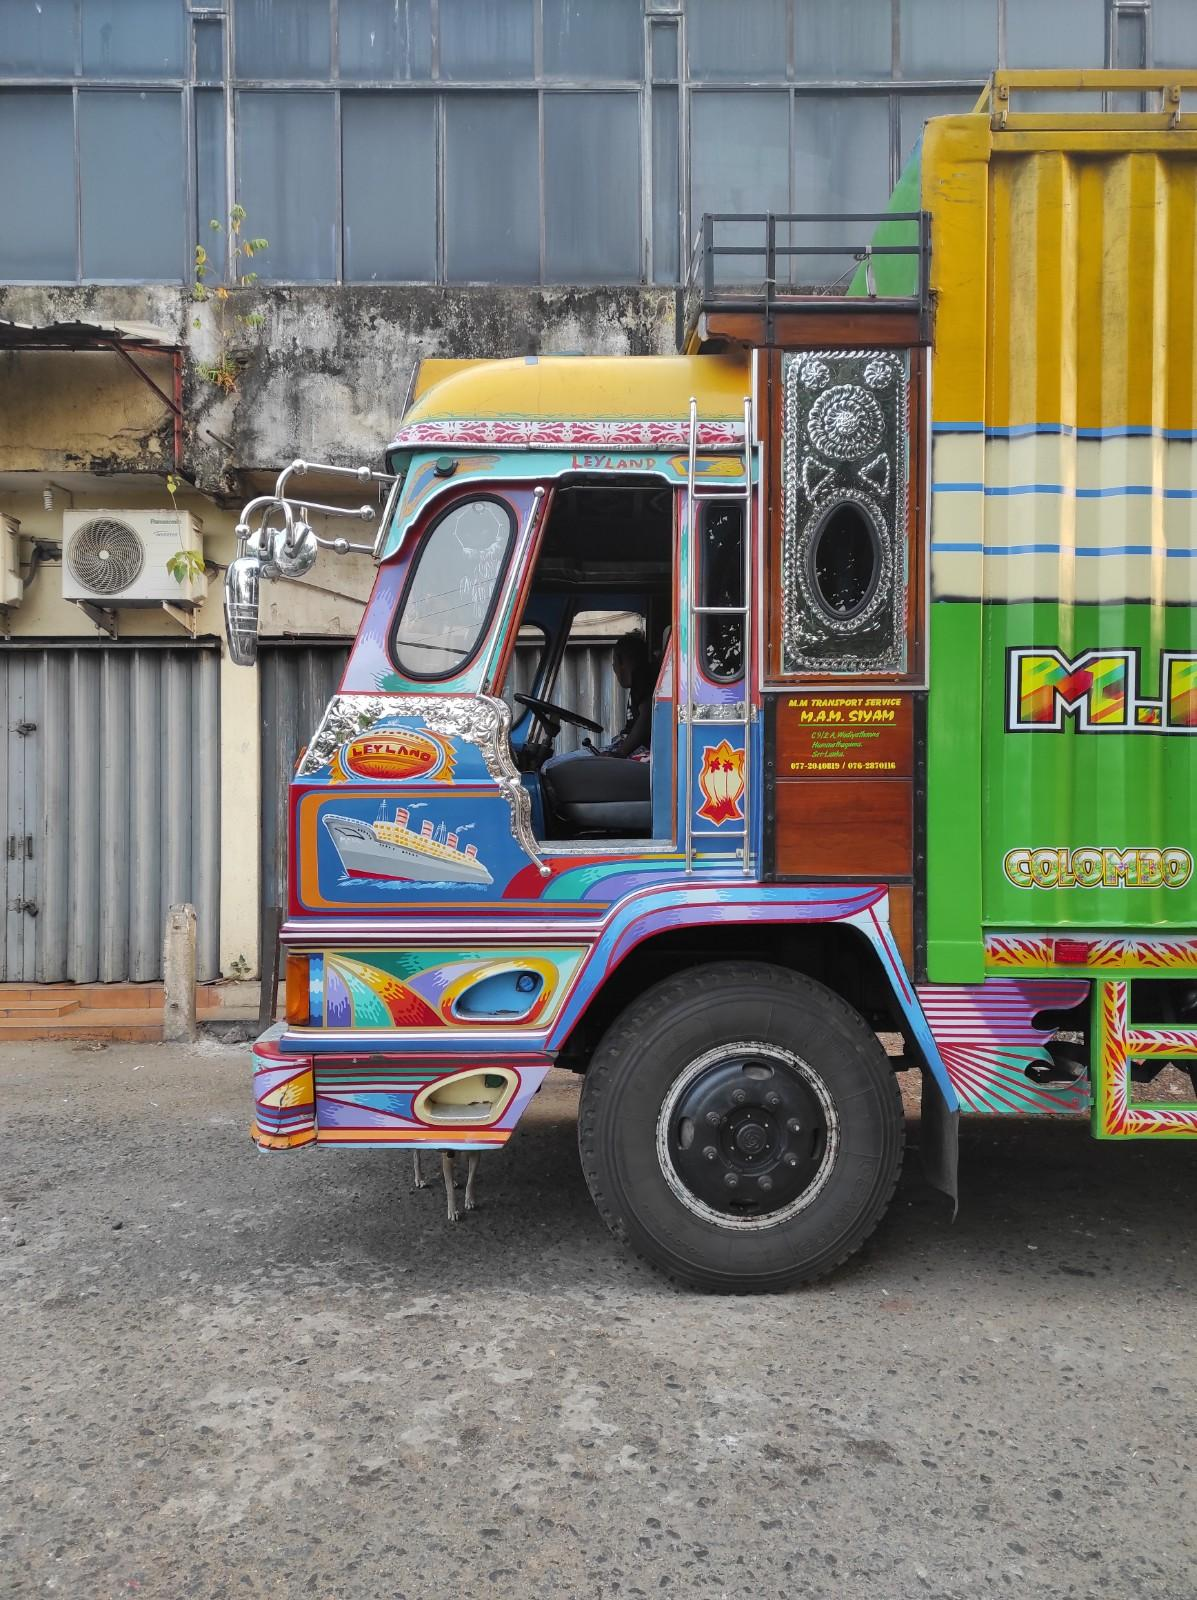truck: (224, 70, 1197, 1300)
